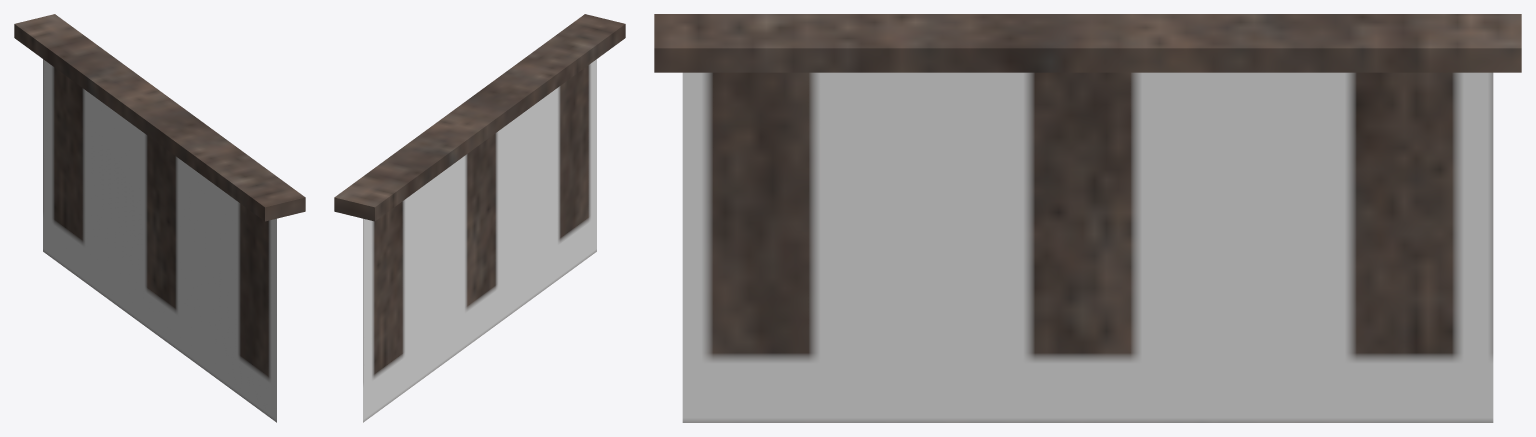
Rendered from Fence_test.fbx.
The picture shows the model from 3 angles, left to right: view 1: azimuth 30°, elevation 25°; view 2: azimuth 150°, elevation 25°; view 3: azimuth 270°, elevation 25°; orthographic projection. The views are drawn at different scales.
Visible parts, largest first — view 1: Fence; view 2: Fence; view 3: Fence.
Part boxes in pixels (x1,y1,x2,y2): Fence: (14,14,305,422); Fence: (334,14,625,422); Fence: (654,14,1521,422).
Size of the model in its own units: 15 by 80 by 160.
